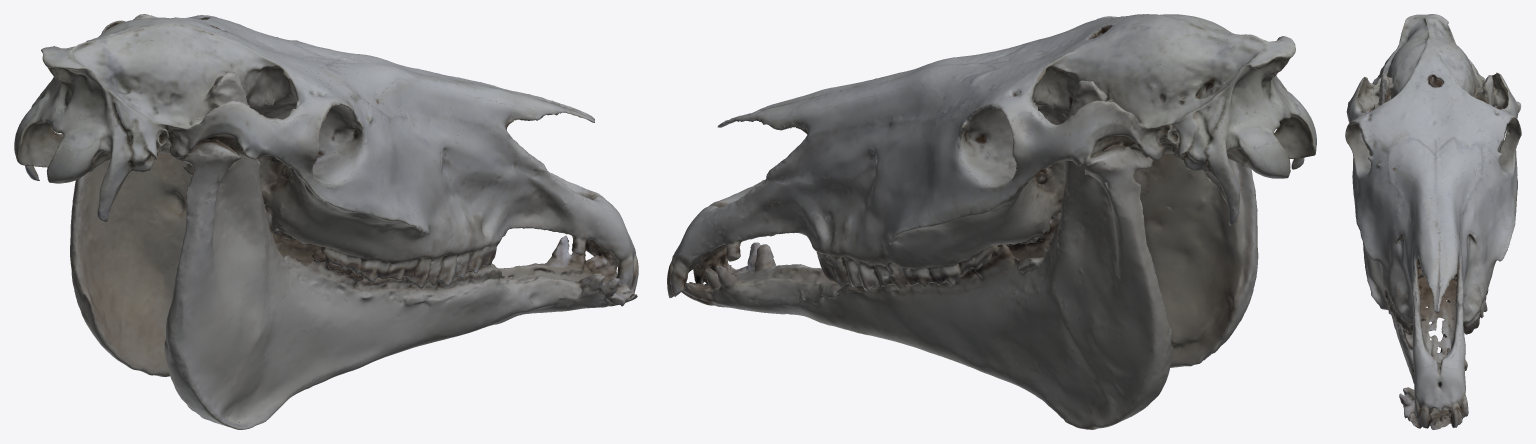
File: horse-skull.glb
3 views of the same model, side by side, from view 1: azimuth 30°, elevation 25°; view 2: azimuth 150°, elevation 25°; view 3: azimuth 270°, elevation 25° (orthographic). The views are drawn at different scales.
Visible parts, largest first — view 1: meshNode_Material_u1_v1_0, meshNode_Material_u1_v1_0.001, meshNode_Material_u1_v1_0.002, meshNode_Material_u1_v1_0.003; view 2: meshNode_Material_u1_v1_0, meshNode_Material_u1_v1_0.001, meshNode_Material_u1_v1_0.002, meshNode_Material_u1_v1_0.003; view 3: meshNode_Material_u1_v1_0.001, meshNode_Material_u1_v1_0, meshNode_Material_u1_v1_0.002.
Boxes of the visible parts, box(x1,y1,x2,y2) form: meshNode_Material_u1_v1_0: box(70, 15, 635, 414); meshNode_Material_u1_v1_0.001: box(14, 14, 626, 369); meshNode_Material_u1_v1_0.002: box(33, 18, 638, 429); meshNode_Material_u1_v1_0.003: box(77, 172, 444, 376); meshNode_Material_u1_v1_0: box(727, 14, 1258, 429); meshNode_Material_u1_v1_0.001: box(667, 14, 1316, 363); meshNode_Material_u1_v1_0.002: box(667, 16, 1314, 426); meshNode_Material_u1_v1_0.003: box(873, 210, 1170, 429); meshNode_Material_u1_v1_0.001: box(1345, 14, 1521, 429); meshNode_Material_u1_v1_0: box(1351, 19, 1521, 422); meshNode_Material_u1_v1_0.002: box(1347, 49, 1514, 429).
Bounding box in the file's own units: 3282 × 2028 × 1309.
1 material, 1 textured.
